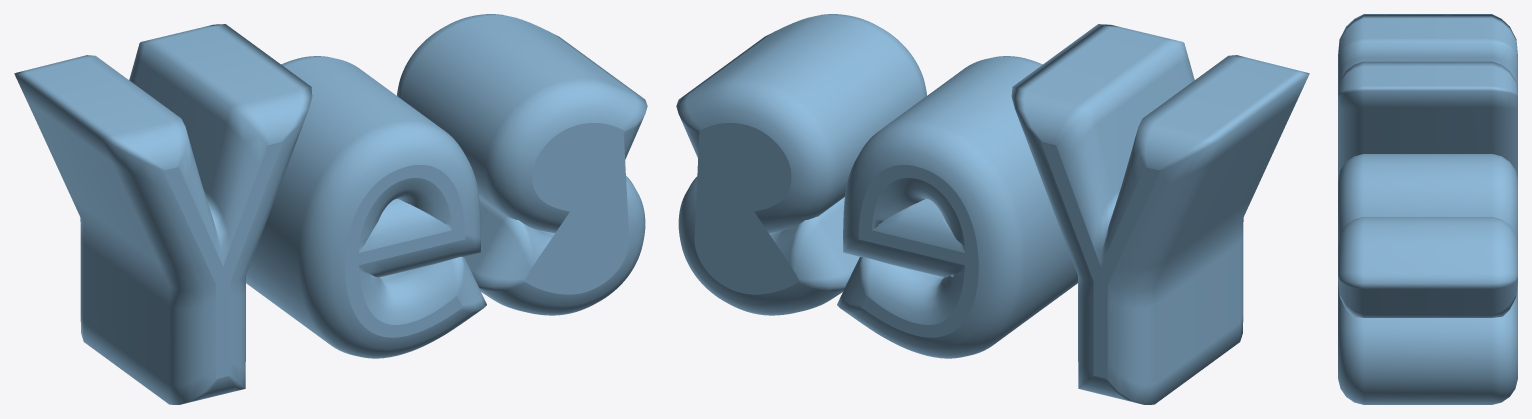
The model's file is Yes.fbx.
The picture shows the model from 3 angles, left to right: view 1: azimuth 30°, elevation 25°; view 2: azimuth 150°, elevation 25°; view 3: azimuth 270°, elevation 25°; orthographic projection. The views are drawn at different scales.
Parts seen in each view (by area): view 1: polySurface4; view 2: polySurface4; view 3: polySurface4.
Part boxes in pixels (box(x1,y1,x2,y2)): polySurface4: box(14, 14, 647, 404); polySurface4: box(676, 14, 1309, 404); polySurface4: box(1338, 14, 1517, 404).
Bounding box in the file's own units: 1.83 × 0.9221 × 0.7.
